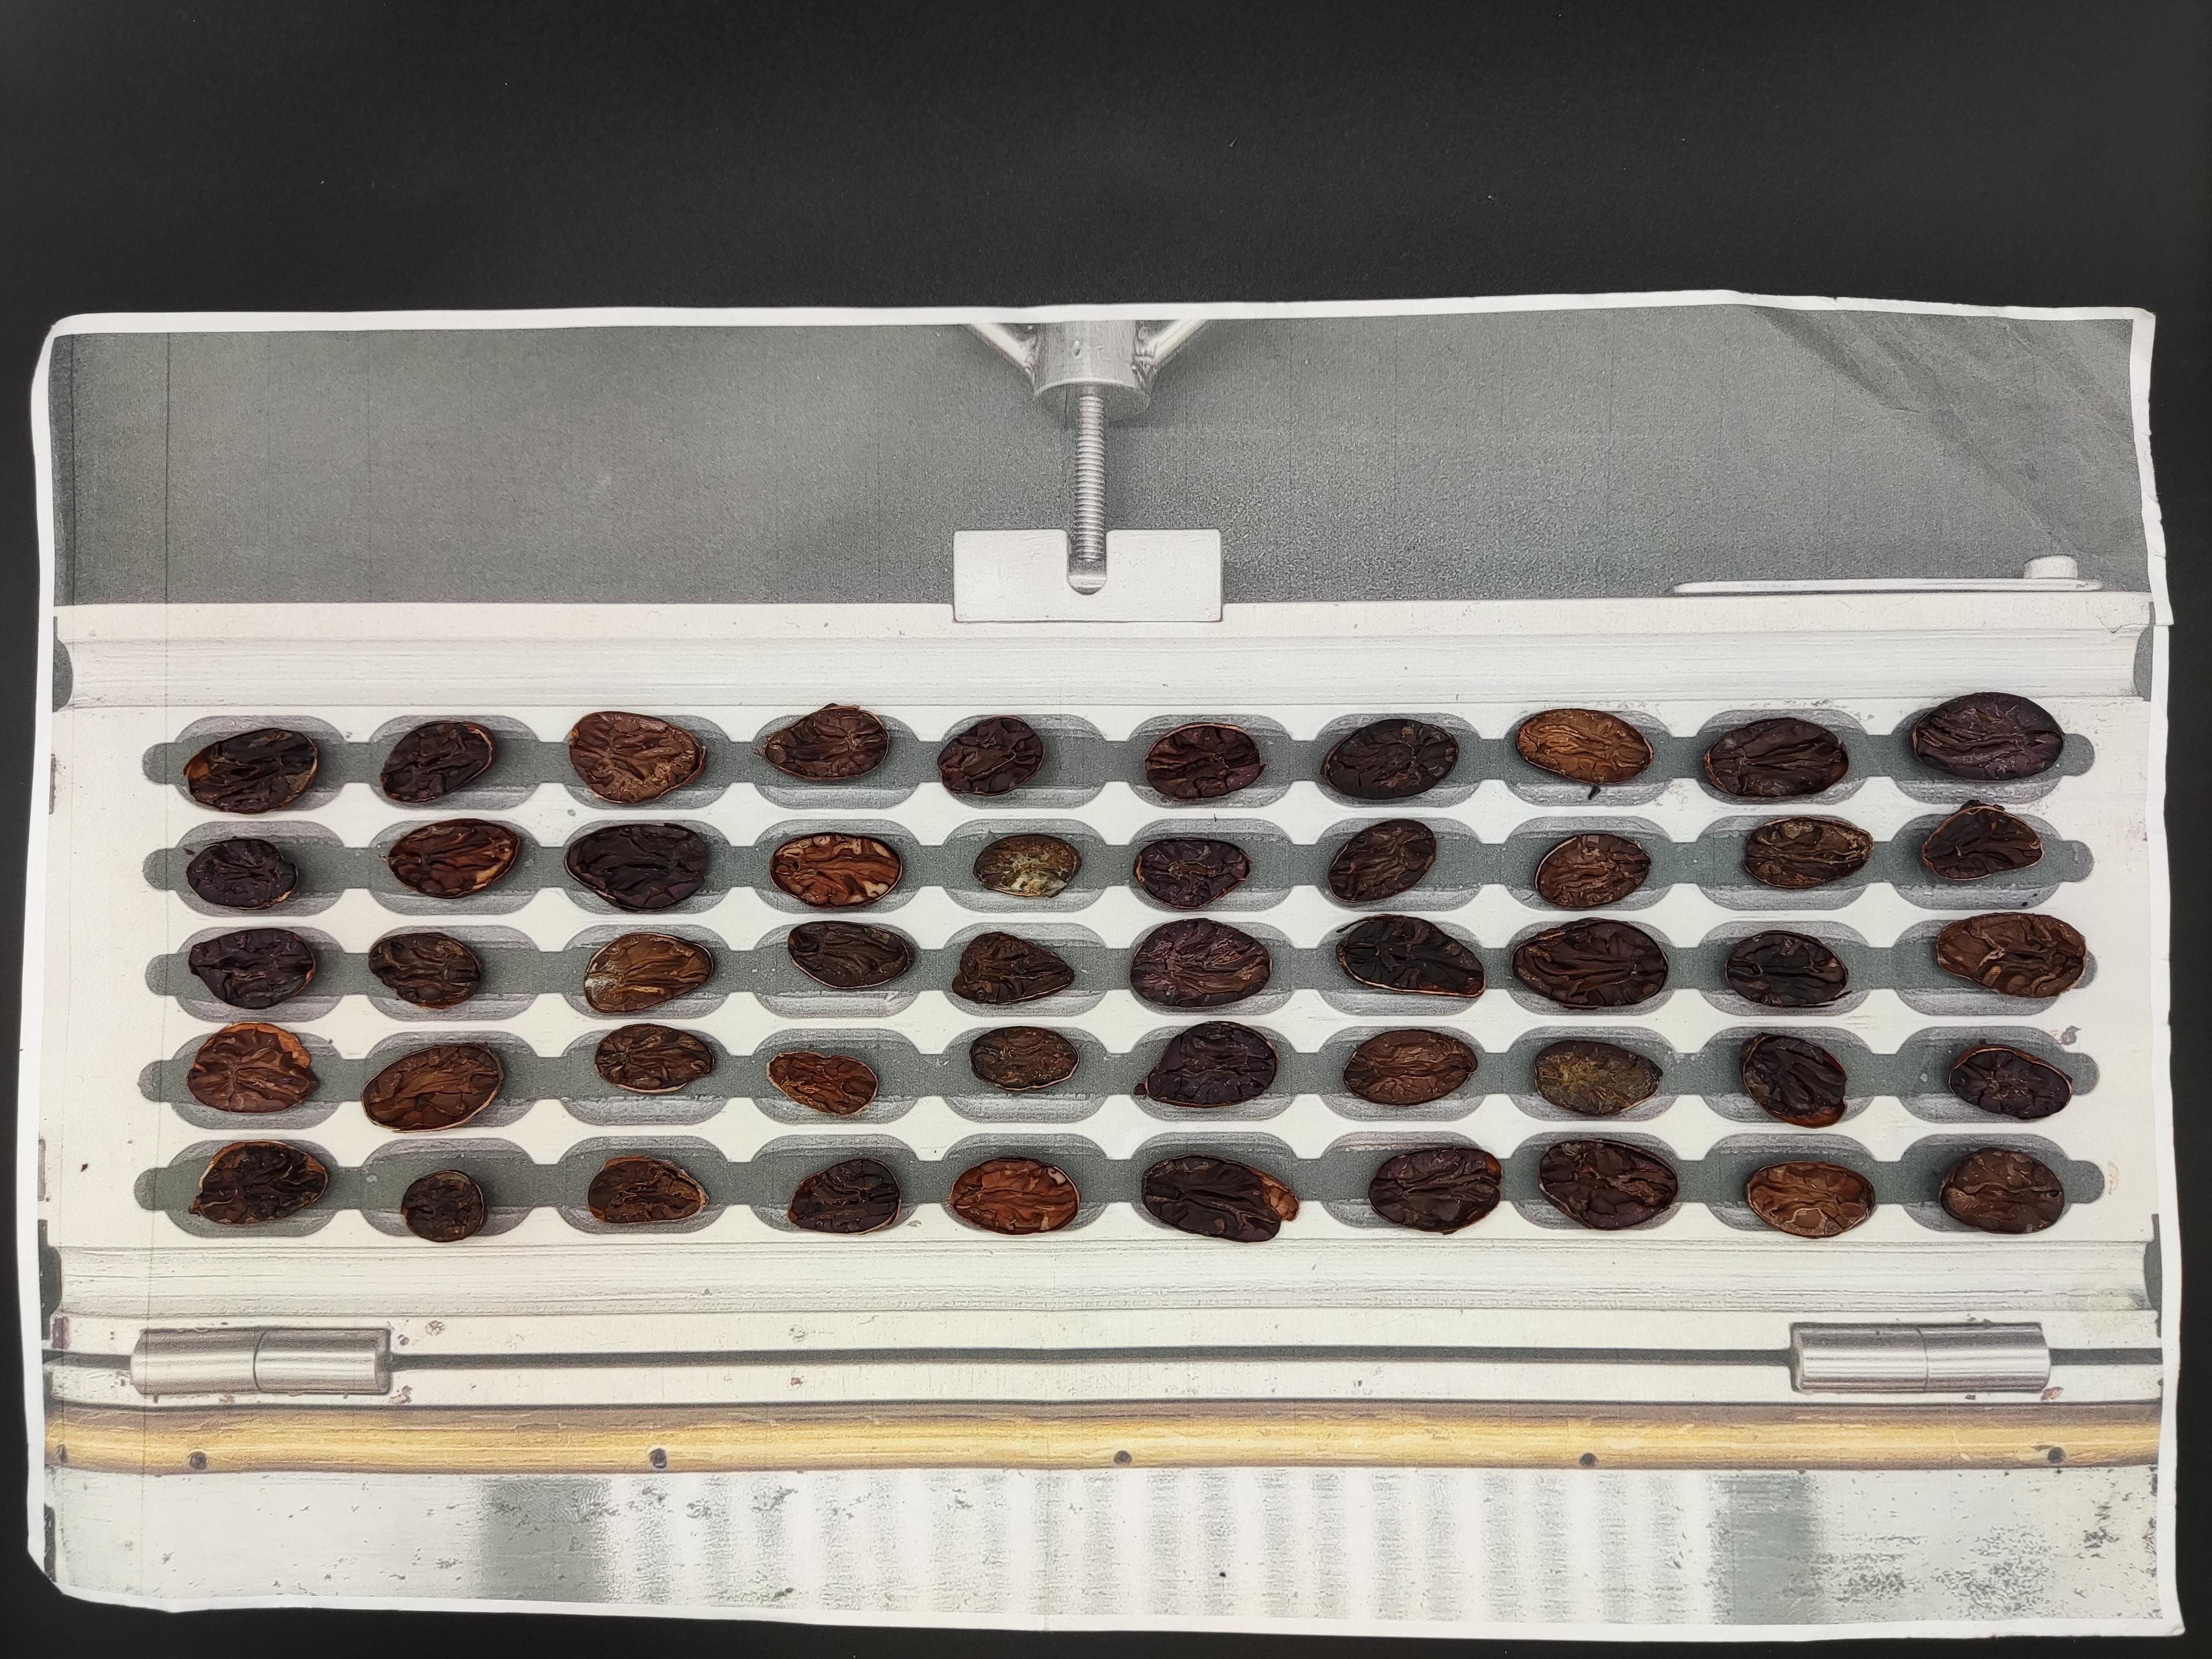Brown - G1: (1850, 469, 1940, 523), (1170, 519, 1251, 577), (1561, 587, 1641, 636), (1275, 415, 1352, 464), (1379, 516, 1453, 566), (1472, 422, 1547, 469), (1467, 535, 1536, 580), (1968, 416, 2043, 458)
Brown - G2: (1364, 359, 1447, 418), (2066, 464, 2155, 516), (1970, 589, 2045, 641), (1467, 357, 1540, 410), (1561, 474, 1637, 521), (1860, 423, 1930, 472)
Brown - G3: (1263, 528, 1343, 586), (2069, 586, 2144, 638), (1850, 359, 1930, 408), (1764, 526, 1839, 573), (1376, 586, 1447, 634)
Brown - G4: (1569, 519, 1639, 563)
Insect-damaged: (1864, 528, 1937, 577)
Mouldy: (1374, 471, 1453, 523), (1573, 423, 1639, 467)
Partly Purple - G1: (1364, 416, 1451, 472), (1660, 369, 1730, 413)
Partly Purple - G2: (1944, 362, 2031, 415), (1759, 465, 1846, 518), (1655, 467, 1738, 521), (1170, 368, 1251, 423), (1778, 586, 1853, 634), (1271, 364, 1339, 416), (1557, 361, 1620, 416), (1480, 589, 1543, 640)
Total Purple - G2: (1165, 471, 1251, 521), (1655, 427, 1724, 471)
Total Purple - G3: (2054, 350, 2144, 408), (1660, 519, 1738, 575), (2073, 533, 2149, 582), (1170, 425, 1240, 469)
Very Dark Brown - G1: (1660, 586, 1750, 645), (1170, 582, 1251, 636), (1966, 525, 2033, 580)
Very Dark Brown - G2: (1862, 575, 1946, 638), (1756, 416, 1822, 471), (1959, 474, 2031, 523), (1264, 472, 1334, 521), (2060, 410, 2130, 455)
Very Dark Brown - G3: (1752, 362, 1834, 415), (1477, 469, 1554, 512), (1282, 591, 1336, 641)
